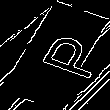P_NW: (15, 27, 95, 83)
